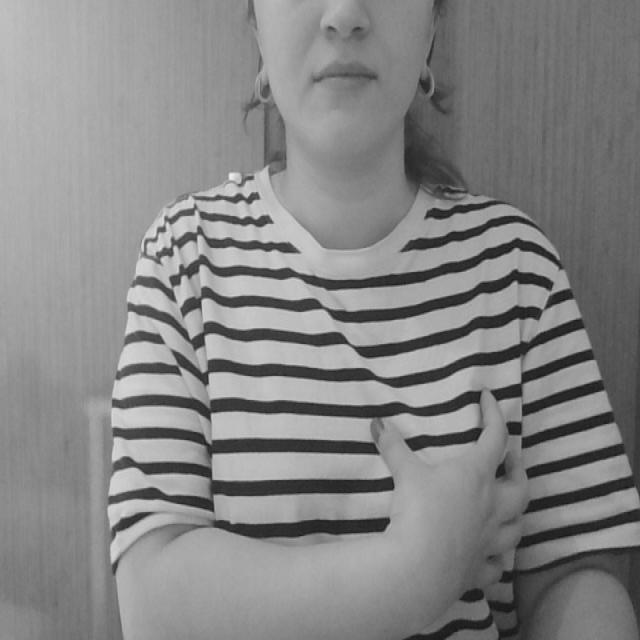Anne: (217, 370, 546, 598)
